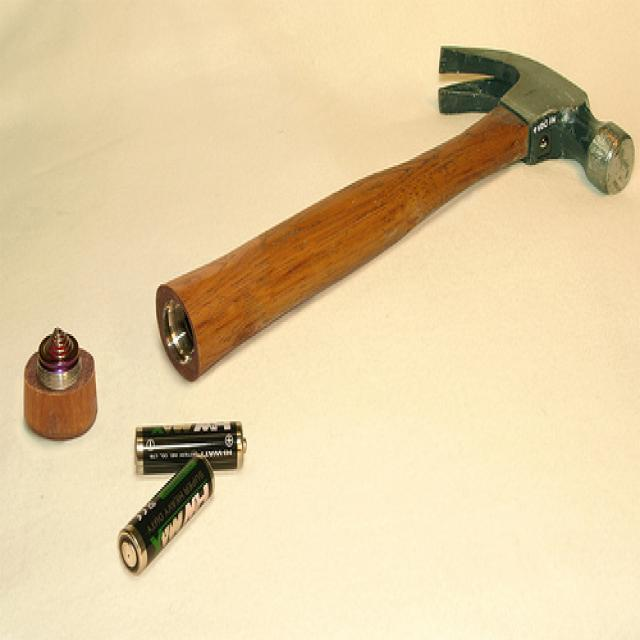hammer: (144, 20, 640, 388)
